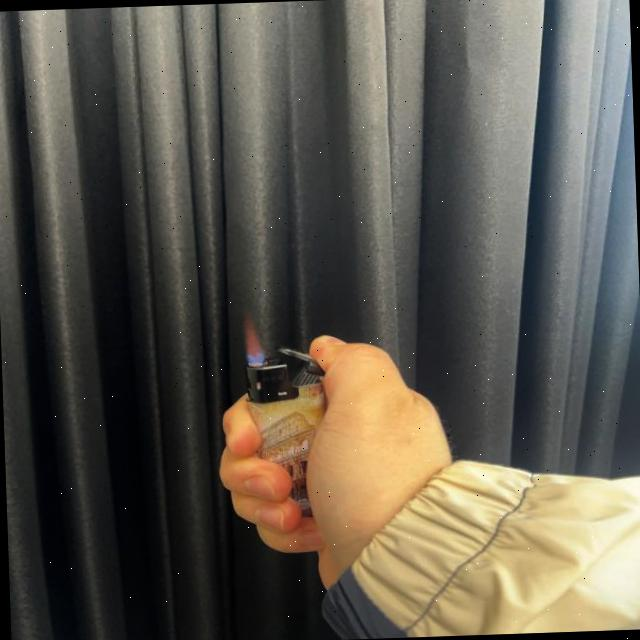fire: (238, 312, 266, 366)
